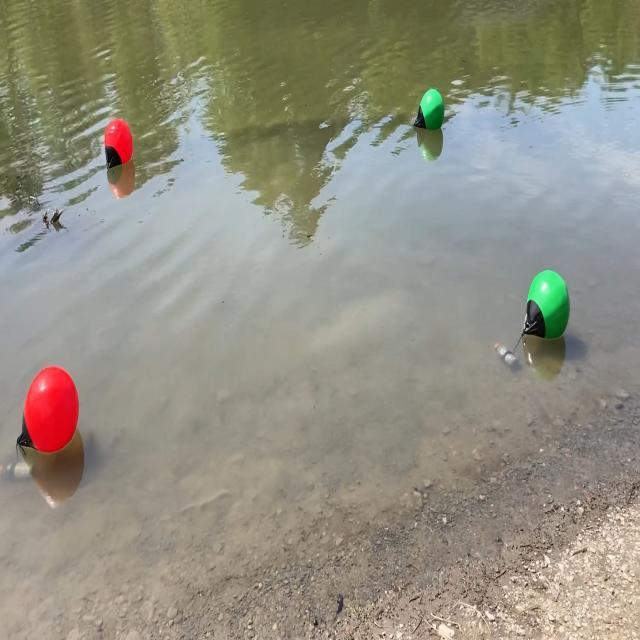buoy: (13, 362, 81, 456), (522, 268, 572, 344), (103, 115, 136, 170), (411, 85, 447, 134)
